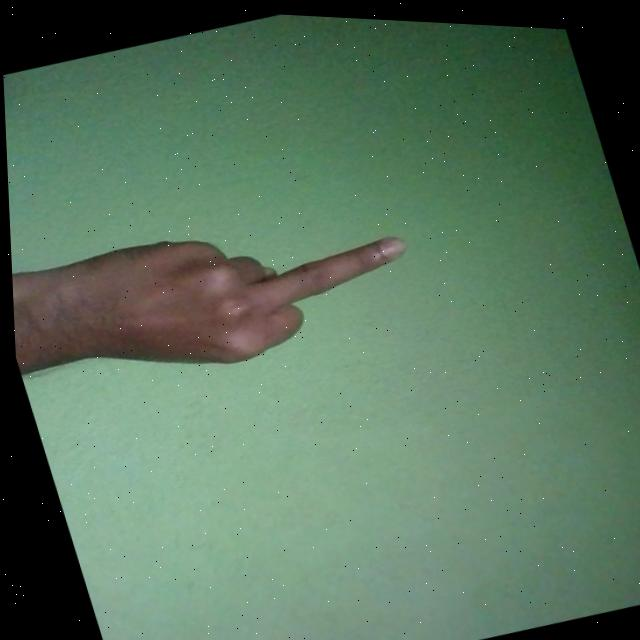Middle Finger: (6, 171, 428, 421)
